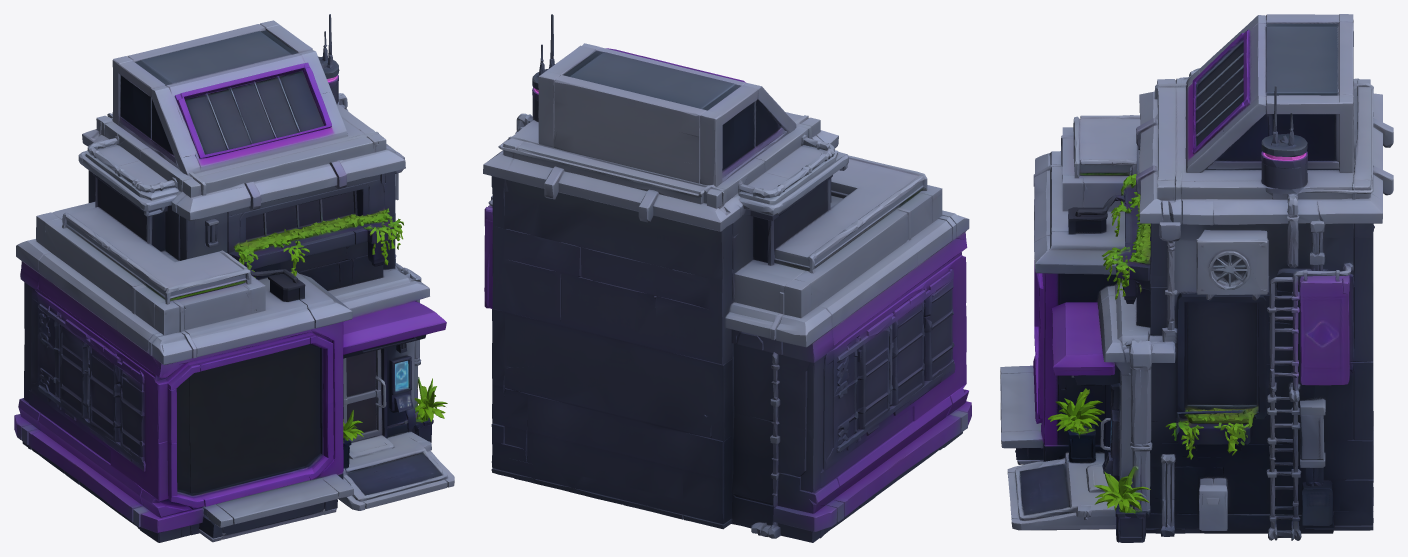
File: source.glb
3 renders of one model, left to right at view 1: azimuth 30°, elevation 25°; view 2: azimuth 150°, elevation 25°; view 3: azimuth 270°, elevation 25°, orthographic. The views are drawn at different scales.
Visible parts, largest first — view 1: model; view 2: model; view 3: model.
Part boxes in pixels (box(x1,y1,x2,y2)): model: box(14, 14, 454, 542); model: box(483, 14, 971, 542); model: box(1000, 14, 1393, 542).
Bounding box in the file's own units: 1.67 × 1.89 × 1.53.
1 material, 1 textured.
